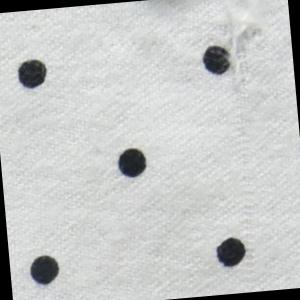Damage: (206, 8, 280, 90)
